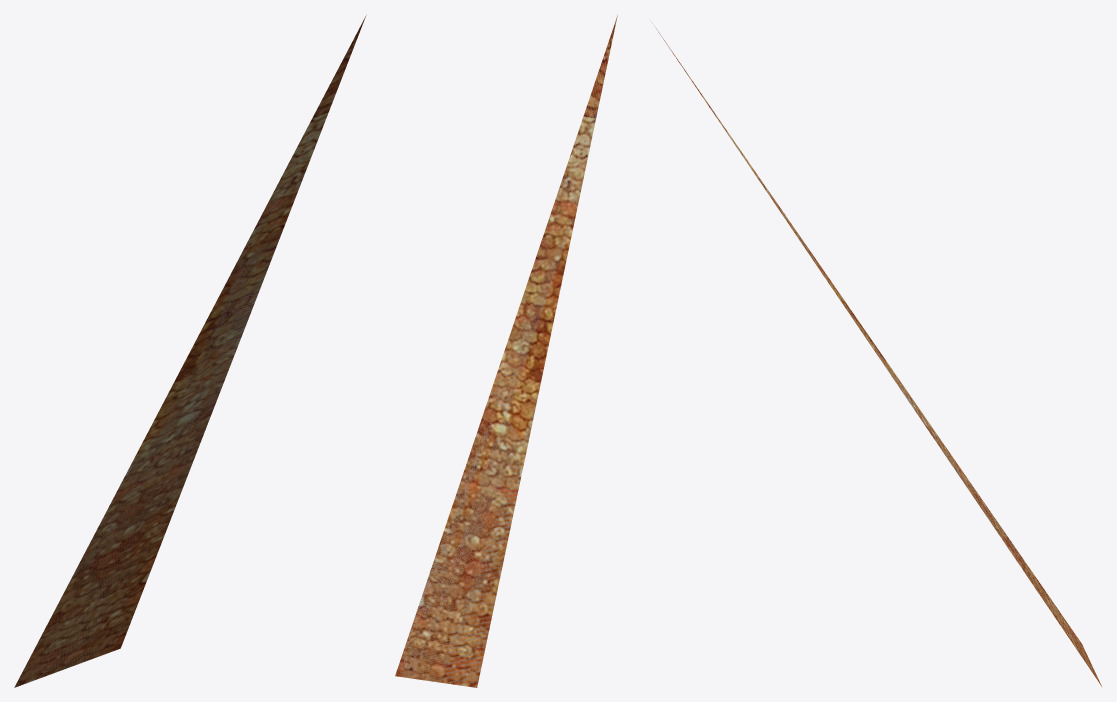
File: 西庸城堡207.dae
3 renders of one model, left to right at view 1: azimuth 30°, elevation 25°; view 2: azimuth 150°, elevation 25°; view 3: azimuth 270°, elevation 25°, orthographic. The views are drawn at different scales.
Parts seen in each view (by area): view 1: SketchUp; view 2: SketchUp; view 3: SketchUp.
Part boxes in pixels (x1,y1,x2,y2): SketchUp: (14, 15, 366, 687); SketchUp: (395, 15, 617, 687); SketchUp: (652, 23, 1101, 686).
Size of the model in its own units: 39.79 by 175 by 276.
